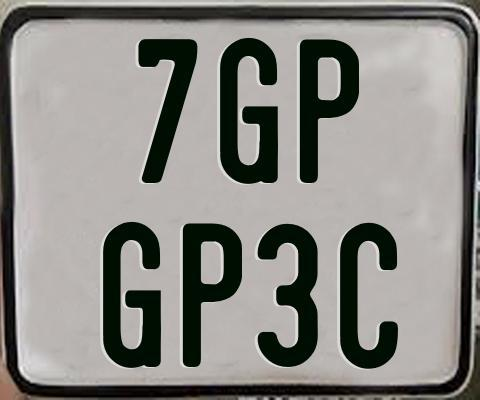3: (256, 222, 317, 371)
7: (138, 38, 202, 187)
C: (338, 220, 398, 367)
G: (101, 220, 162, 368), (217, 37, 275, 183)
P: (180, 222, 245, 367), (297, 39, 356, 184)
